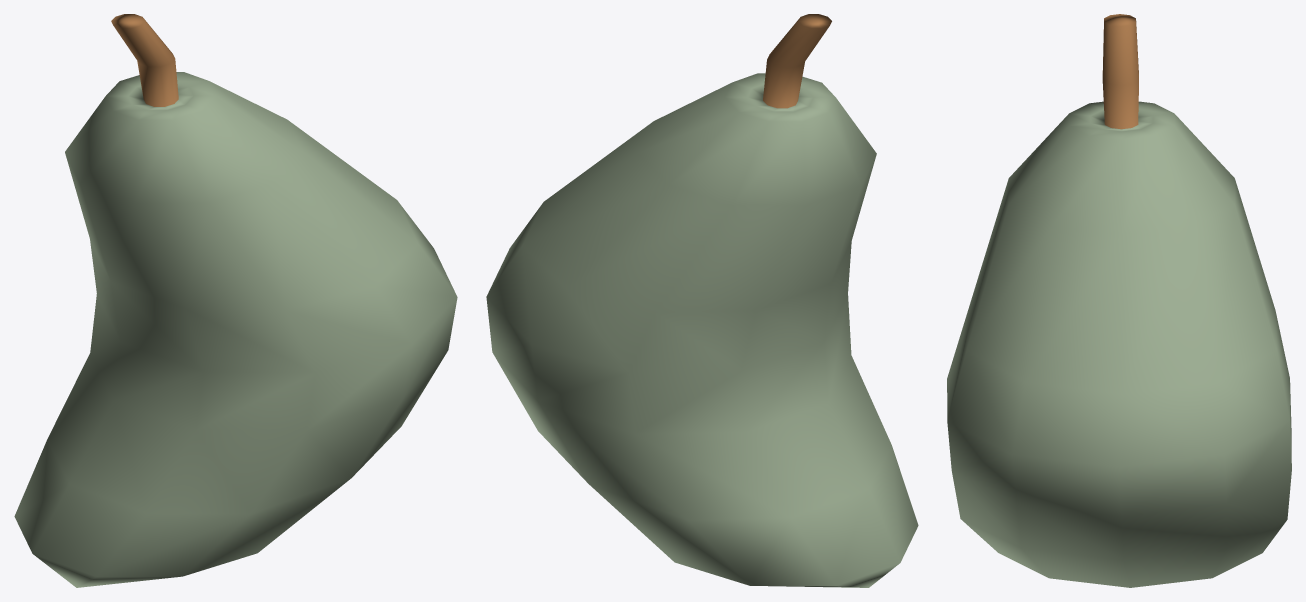
The model's file is Gawa_Fruit.fbx.
The picture shows the model from 3 angles, left to right: view 1: azimuth 30°, elevation 25°; view 2: azimuth 150°, elevation 25°; view 3: azimuth 270°, elevation 25°; orthographic projection.
Visible parts, largest first — view 1: GawaFruit; view 2: GawaFruit; view 3: GawaFruit.
Part boxes in pixels (box(x1,y1,x2,y2)): GawaFruit: box(14, 14, 457, 587); GawaFruit: box(486, 14, 918, 587); GawaFruit: box(947, 14, 1291, 587).
Bounding box in the file's own units: 5.96 × 7.97 × 4.53.
